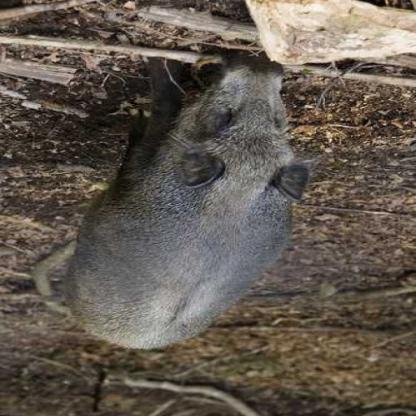boar: (45, 20, 316, 350)
